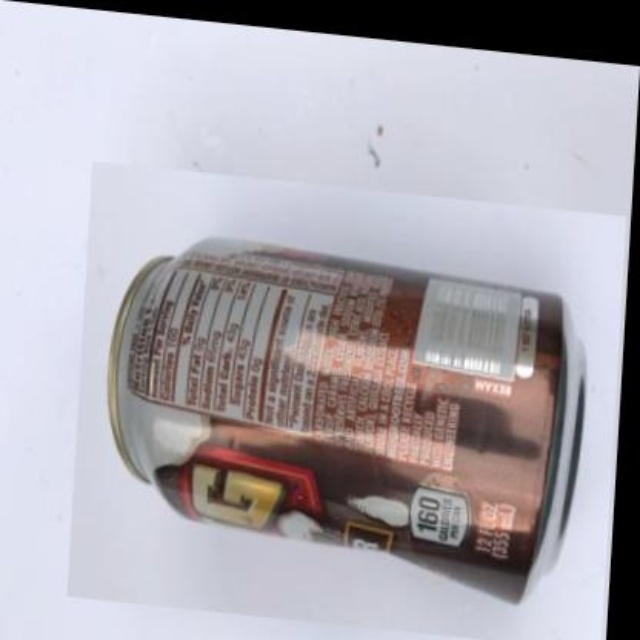trash: (109, 238, 583, 597)
